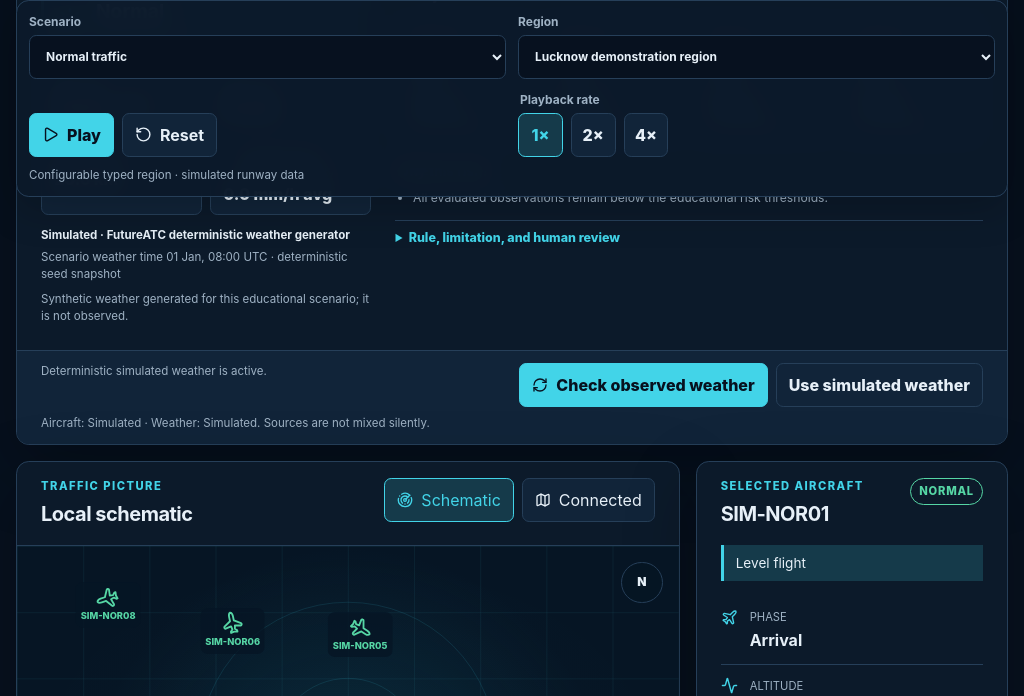
it: weather provider integration › rejects invalid provider data without replacing simulated weather
(page scrolled)
Click the button "Check observed weather". click: (644, 385)
box: [519, 363, 768, 407]
(page scrolled)
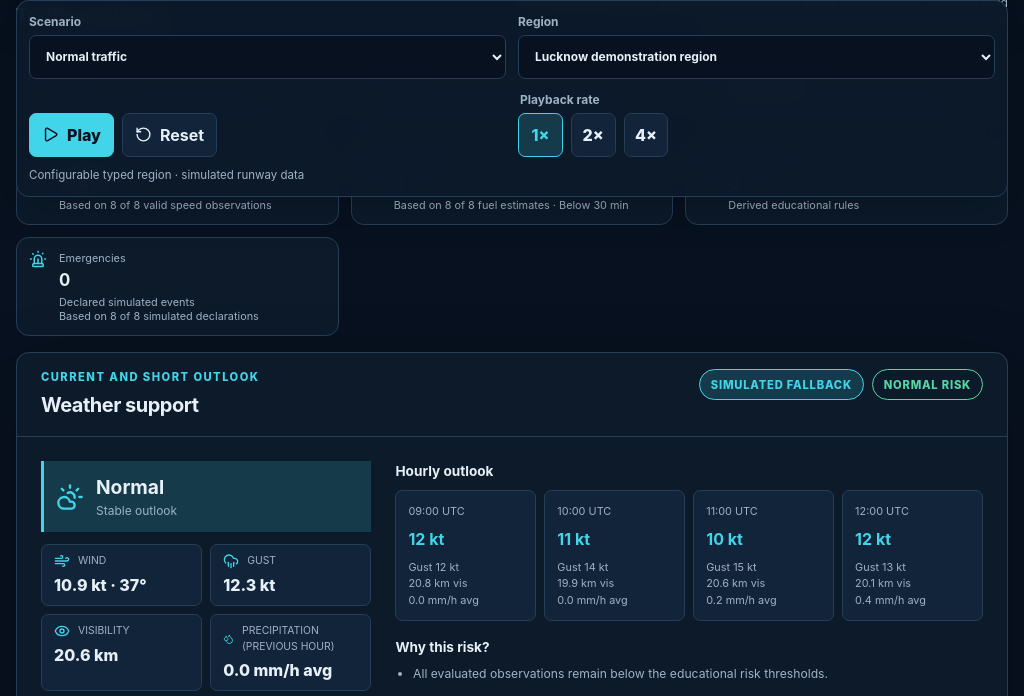
Expected: the text "Simulated fallback" is shown, [699, 370, 864, 400]
